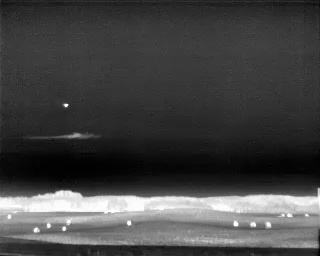BIRD: (61, 101, 70, 110)
